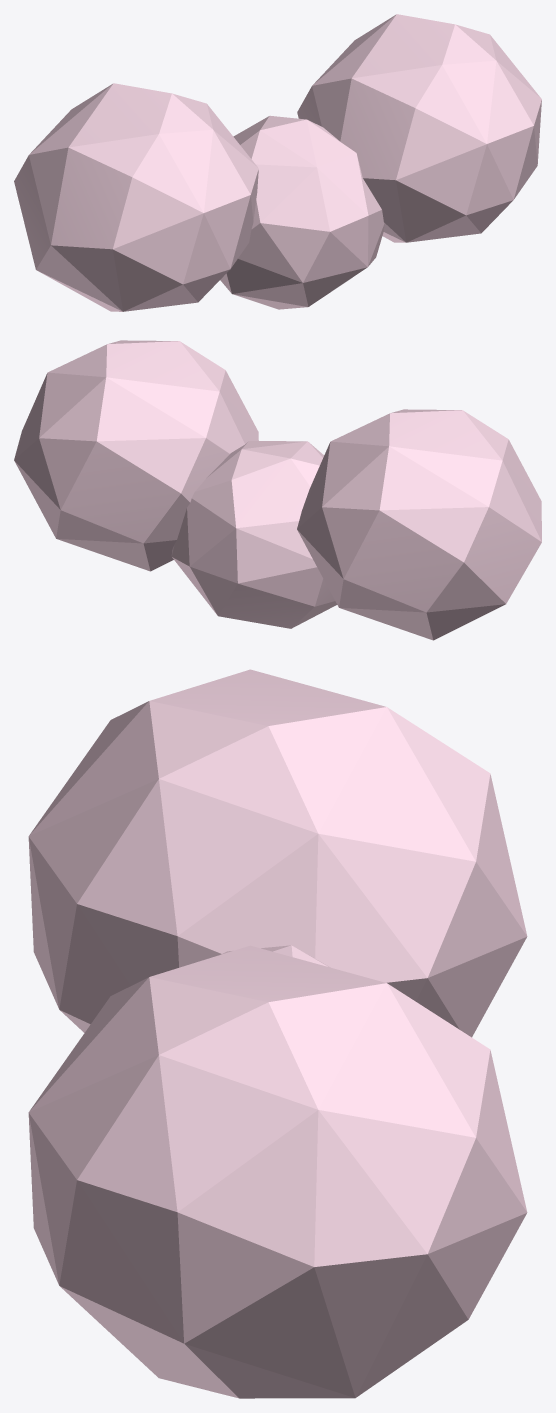
The model's file is cloud_7.fbx.
3 renders of one model, top to bottom at view 1: azimuth 30°, elevation 25°; view 2: azimuth 150°, elevation 25°; view 3: azimuth 270°, elevation 25°, orthographic. The views are drawn at different scales.
Parts seen in each view (by area): view 1: cloud_7; view 2: cloud_7; view 3: cloud_7.
Part boxes in pixels (bbox=[...]): cloud_7: bbox=[14, 14, 541, 311]; cloud_7: bbox=[14, 340, 541, 640]; cloud_7: bbox=[28, 669, 527, 1398].
Size of the model in its own units: 584 by 264 by 256.
